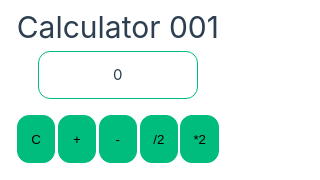
Scenario: Calculator Module › c operator
Expected: the text with id "result" reads "0", [113,65,123,84]
Click the button with id "sum": (77,139) [58,115,96,163]
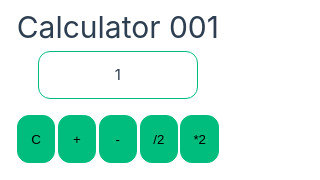
Click the button with id "clear": (36,139) [17,115,55,163]
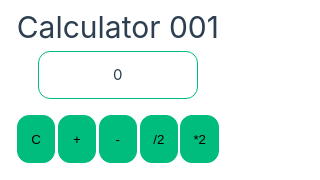
Now the text with id "result" reads "0", box [113,65,123,84]
